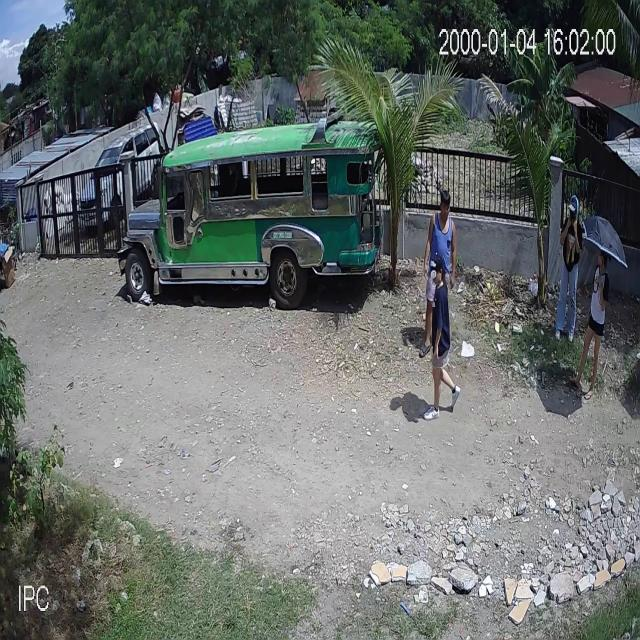standing: (568, 244, 612, 400), (418, 188, 456, 356), (554, 194, 586, 344)
walking: (422, 252, 462, 426)
